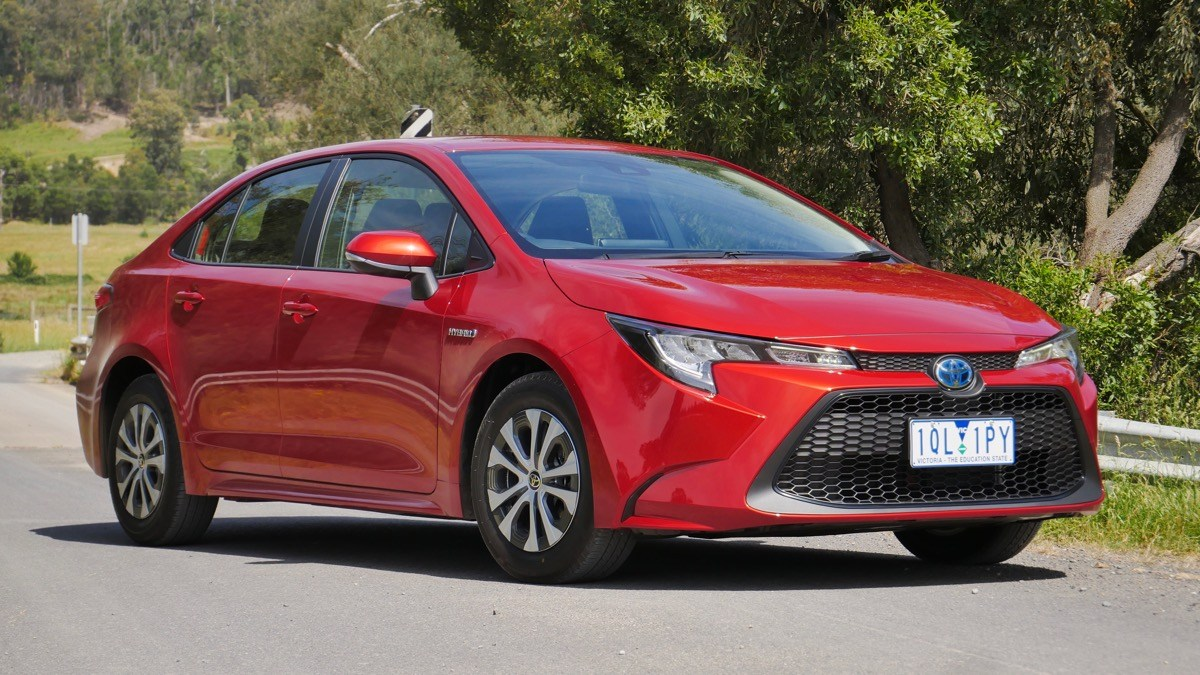car: (74, 134, 1106, 588)
